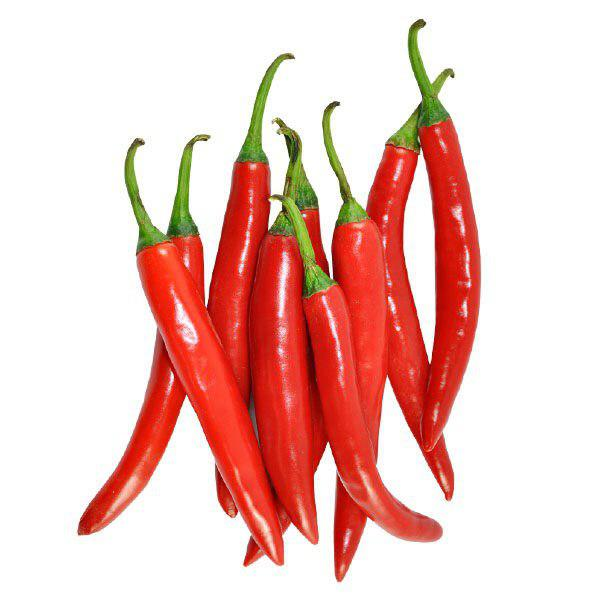lada merah: (133, 231, 291, 565), (296, 281, 450, 552), (76, 194, 188, 560), (363, 134, 461, 507), (413, 111, 485, 467), (214, 141, 274, 411)
